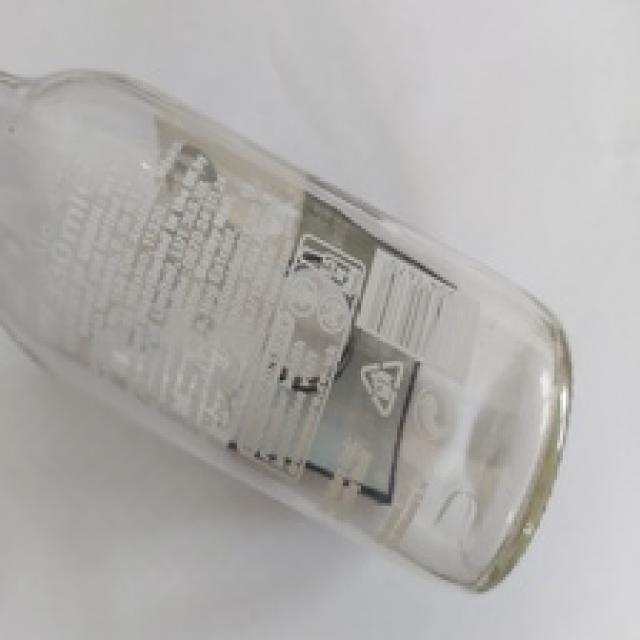garbage: (3, 36, 576, 589)
